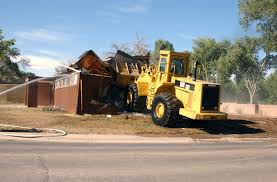bulldozer: (115, 49, 229, 128)
